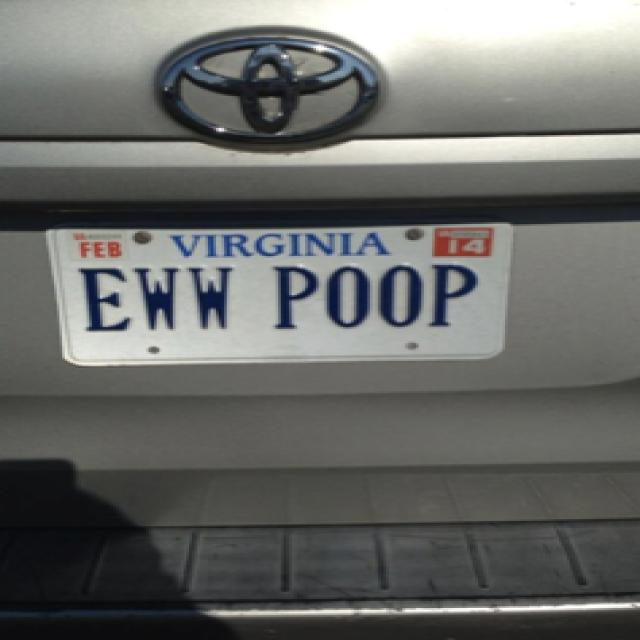license_plate: (49, 231, 502, 341)
